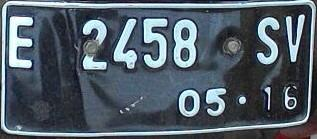clone-license-plate: (0, 0, 309, 131)
